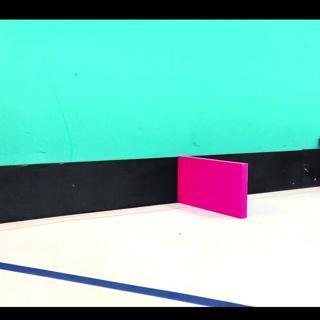xparking: (183, 164, 244, 220)
